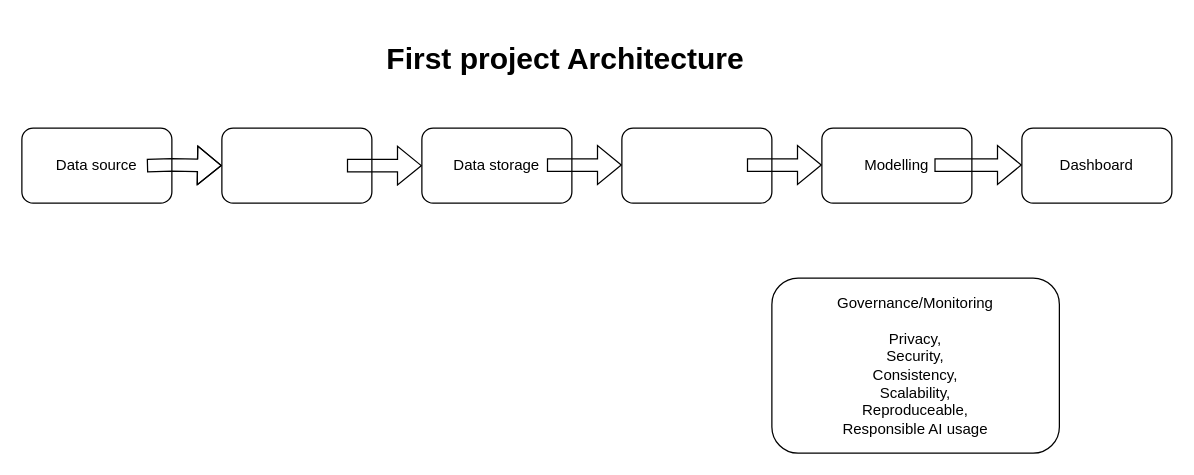
The diagram is 1194 pixels wide and 475 high, and some of its shapes have lost their labels. The box of each missing label's shape, as (x1, y1, x2, y2) in pixels:
Data ingestion: (221, 127, 372, 203)
Preprocessing: (621, 127, 772, 203)
